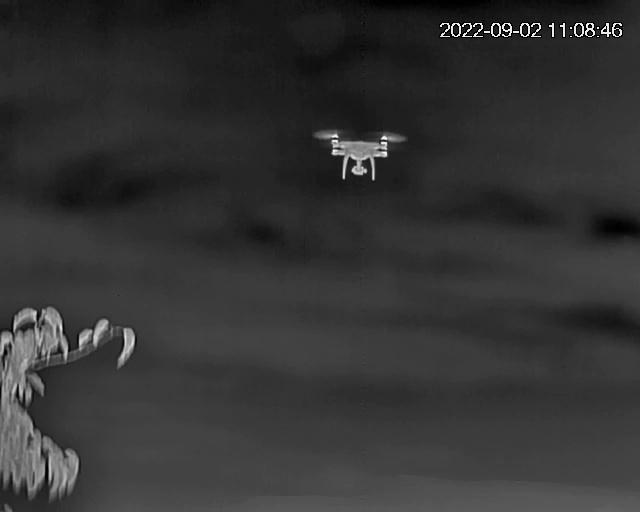DJI-Phantom: (315, 127, 404, 182)
